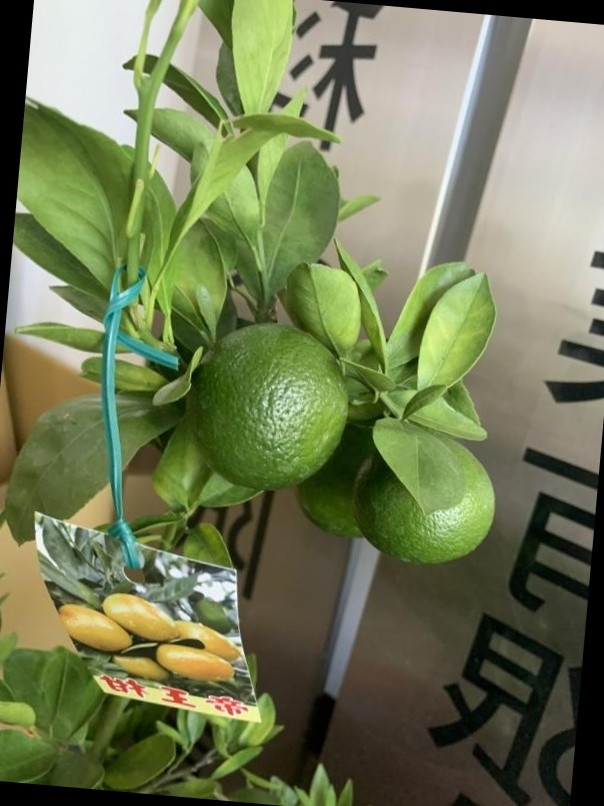Tangerine: (187, 322, 345, 489), (360, 434, 495, 567)
